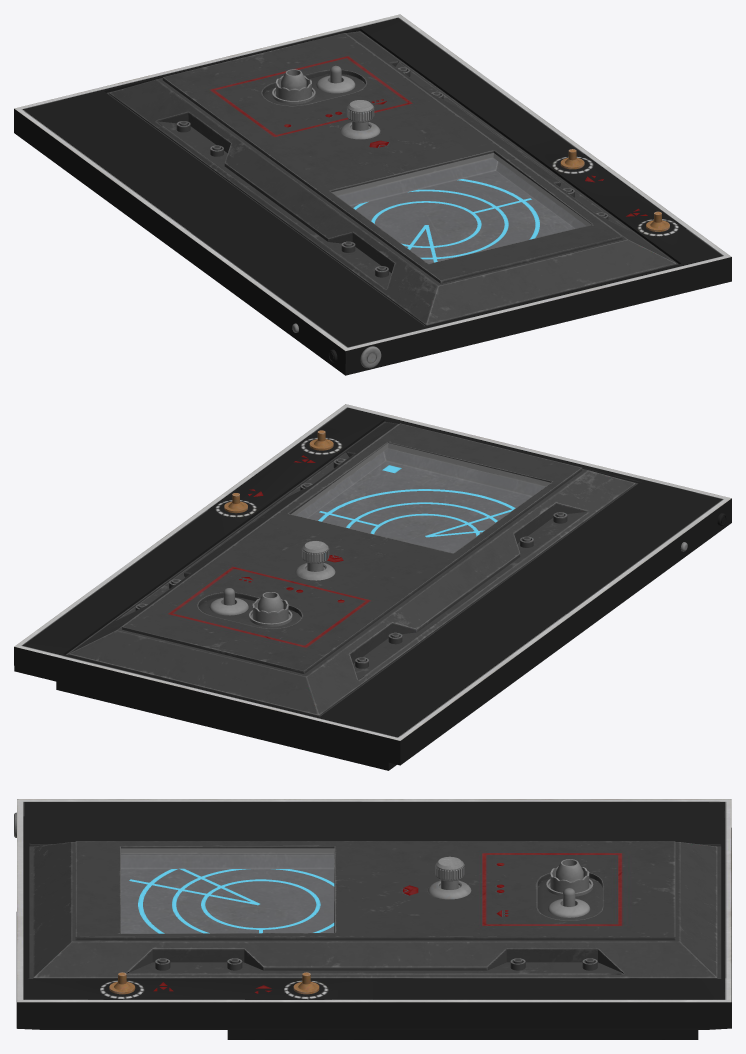
Rendered from starWarsDatapad.glb.
3 views of the same model, one above another, from view 1: azimuth 30°, elevation 25°; view 2: azimuth 150°, elevation 25°; view 3: azimuth 270°, elevation 25° (orthographic). The views are drawn at different scales.
Visible parts, largest first — view 1: idcs-22-datapad.003_Baked.001, glass.004, led.003_Baked.001, Cylinder.027_Baked.001, Cylinder.029_Baked.001, Cylinder.030_Baked.001, Cylinder.028_Baked.001, Cylinder.033_Baked.001; view 2: idcs-22-datapad.003_Baked.001, glass.004, led.003_Baked.001, Cylinder.027_Baked.001, Cylinder.029_Baked.001, Cylinder.030_Baked.001, Cylinder.028_Baked.001, Cylinder.033_Baked.001; view 3: idcs-22-datapad.003_Baked.001, glass.004, led.003_Baked.001, Cylinder.029_Baked.001, Cylinder.027_Baked.001, Cylinder.028_Baked.001, Cylinder.033_Baked.001, Cylinder.030_Baked.001.
Boxes of the visible parts, box(x1,y1,x2,y2) form: idcs-22-datapad.003_Baked.001: box(14, 14, 731, 375); glass.004: box(332, 153, 590, 263); led.003_Baked.001: box(353, 179, 539, 262); Cylinder.027_Baked.001: box(272, 69, 315, 104); Cylinder.029_Baked.001: box(340, 100, 380, 139); Cylinder.030_Baked.001: box(176, 67, 608, 277); Cylinder.028_Baked.001: box(316, 65, 355, 93); Cylinder.033_Baked.001: box(560, 149, 669, 231); idcs-22-datapad.003_Baked.001: box(14, 404, 731, 770); glass.004: box(292, 443, 549, 552); led.003_Baked.001: box(318, 465, 515, 537); Cylinder.027_Baked.001: box(249, 592, 292, 626); Cylinder.029_Baked.001: box(295, 541, 335, 580); Cylinder.030_Baked.001: box(135, 458, 567, 668); Cylinder.028_Baked.001: box(209, 588, 248, 615); Cylinder.033_Baked.001: box(224, 430, 333, 513); idcs-22-datapad.003_Baked.001: box(16, 799, 731, 1039); glass.004: box(121, 848, 333, 933); led.003_Baked.001: box(129, 868, 334, 933); Cylinder.029_Baked.001: box(428, 856, 471, 899); Cylinder.027_Baked.001: box(546, 859, 593, 896); Cylinder.028_Baked.001: box(548, 888, 590, 917); Cylinder.033_Baked.001: box(109, 972, 319, 994); Cylinder.030_Baked.001: box(155, 958, 597, 970).
Bounding box in the file's own units: 0.1623 × 0.0378 × 0.2403.
Materials: 2 (1 with a texture image).
